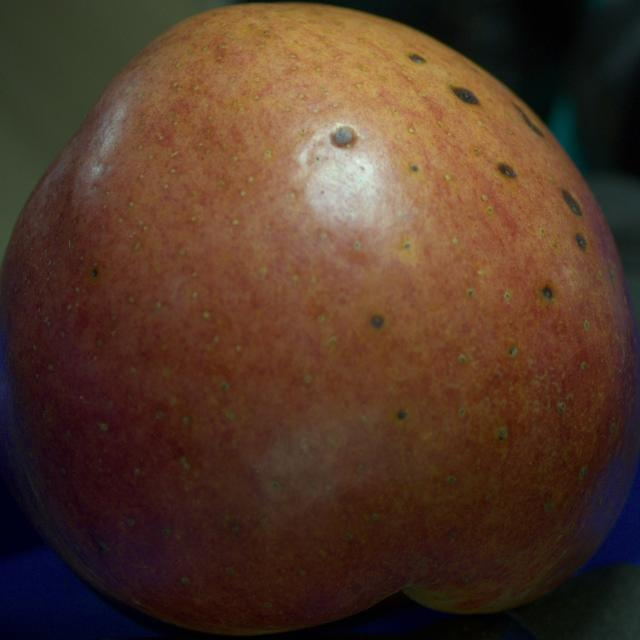apple: (0, 5, 639, 634)
pest: (514, 103, 543, 136), (561, 189, 582, 216), (331, 126, 356, 146), (452, 87, 479, 103), (498, 162, 517, 178), (371, 315, 384, 329), (576, 234, 587, 250), (542, 286, 552, 299), (409, 54, 425, 62), (96, 541, 108, 551), (398, 410, 408, 420), (92, 268, 98, 277)
